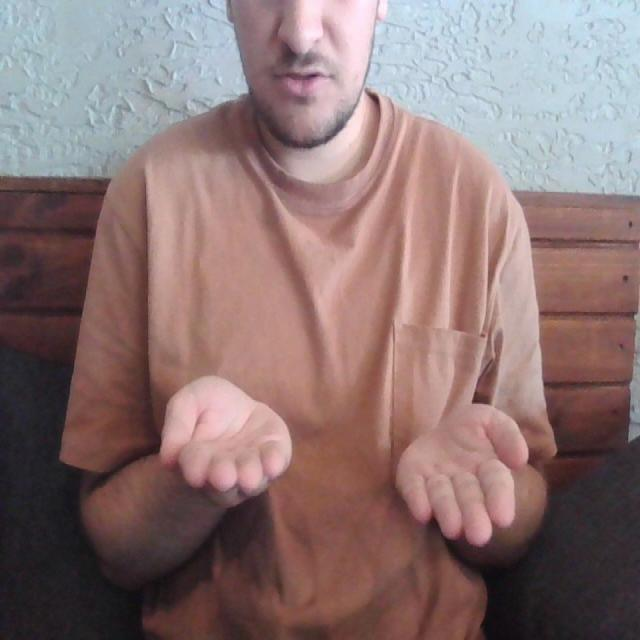Evet: (158, 372, 529, 556)
